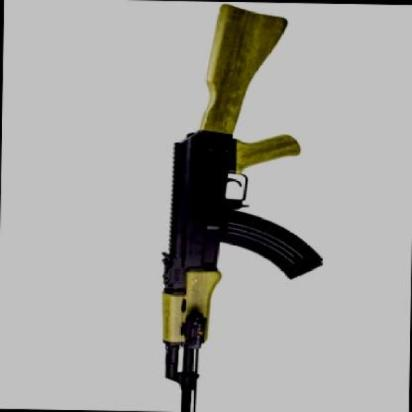Gun: (120, 2, 346, 412)
